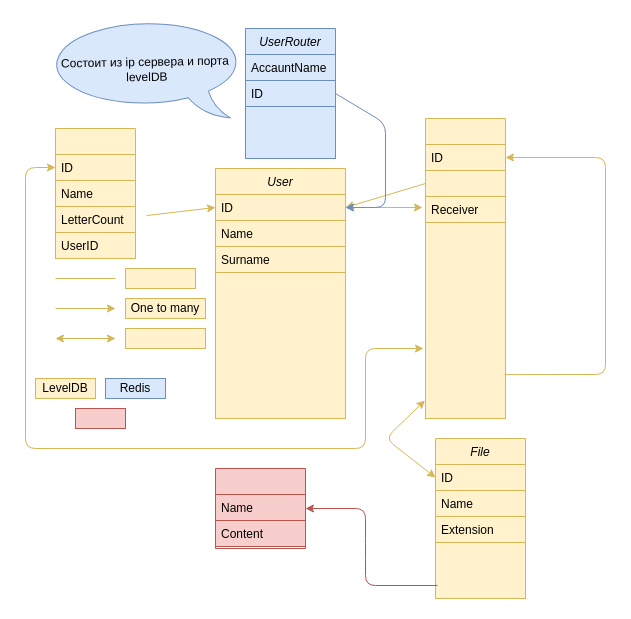
Image size: 631x619. Some labels were removed from this diagram. The shapes that lost their labels are listed below. From the top down, each one's box as (x1, y1, x2, y2) in pixels, then its label:
(244, 106, 336, 158): PathToTable Session
(54, 128, 136, 258): Folder
(424, 170, 506, 196): Sender
(124, 268, 196, 288): One to one
(424, 118, 506, 418): Letter
(124, 328, 206, 348): Many to many
(424, 222, 506, 418): Theme Text Date IsRead FolderID AnswerOn FileID
(214, 272, 346, 418): Birthday Gender Accountname Password telephone number
(74, 408, 126, 428): S3
(214, 468, 306, 548): FileStorage
(434, 542, 526, 598): Size Path
